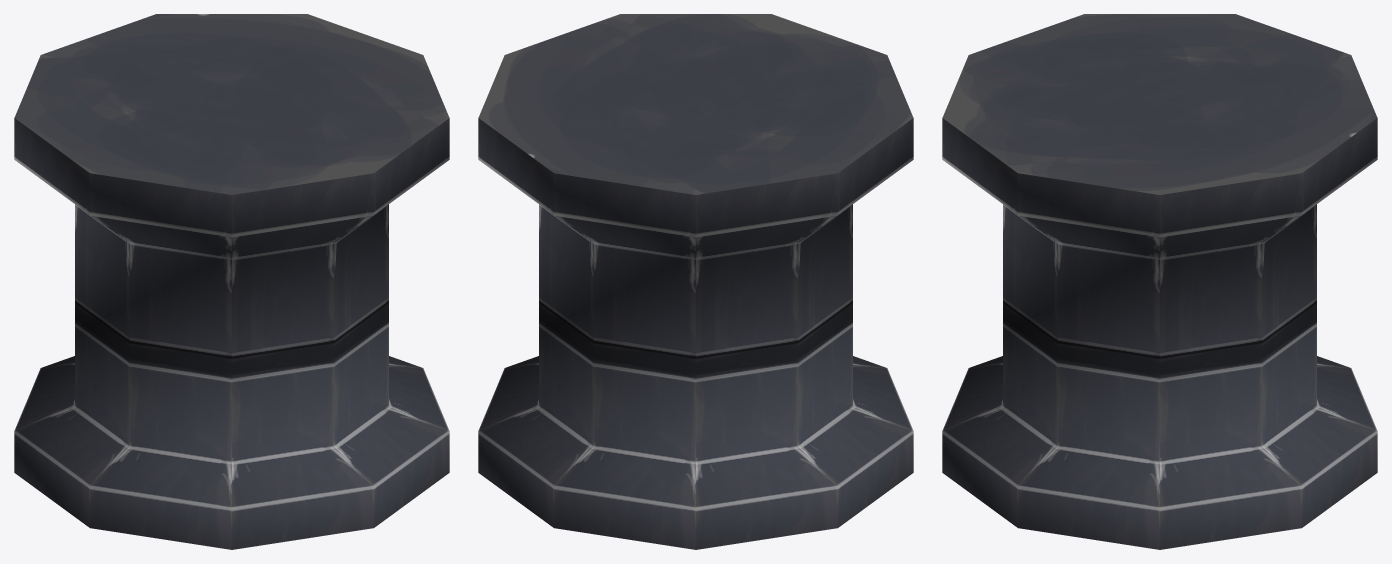
File: golden_fleece_altar.FBX
3 views of the same model, side by side, from view 1: azimuth 30°, elevation 25°; view 2: azimuth 150°, elevation 25°; view 3: azimuth 270°, elevation 25° (orthographic).
Parts seen in each view (by area): view 1: Cylinder002; view 2: Cylinder002; view 3: Cylinder002.
Boxes of the visible parts, x1=… form: Cylinder002: x1=14, y1=14, x2=449, y2=549; Cylinder002: x1=478, y1=14, x2=913, y2=549; Cylinder002: x1=942, y1=14, x2=1377, y2=549.
Size of the model in its own units: 68.62 by 62.72 by 69.68.
